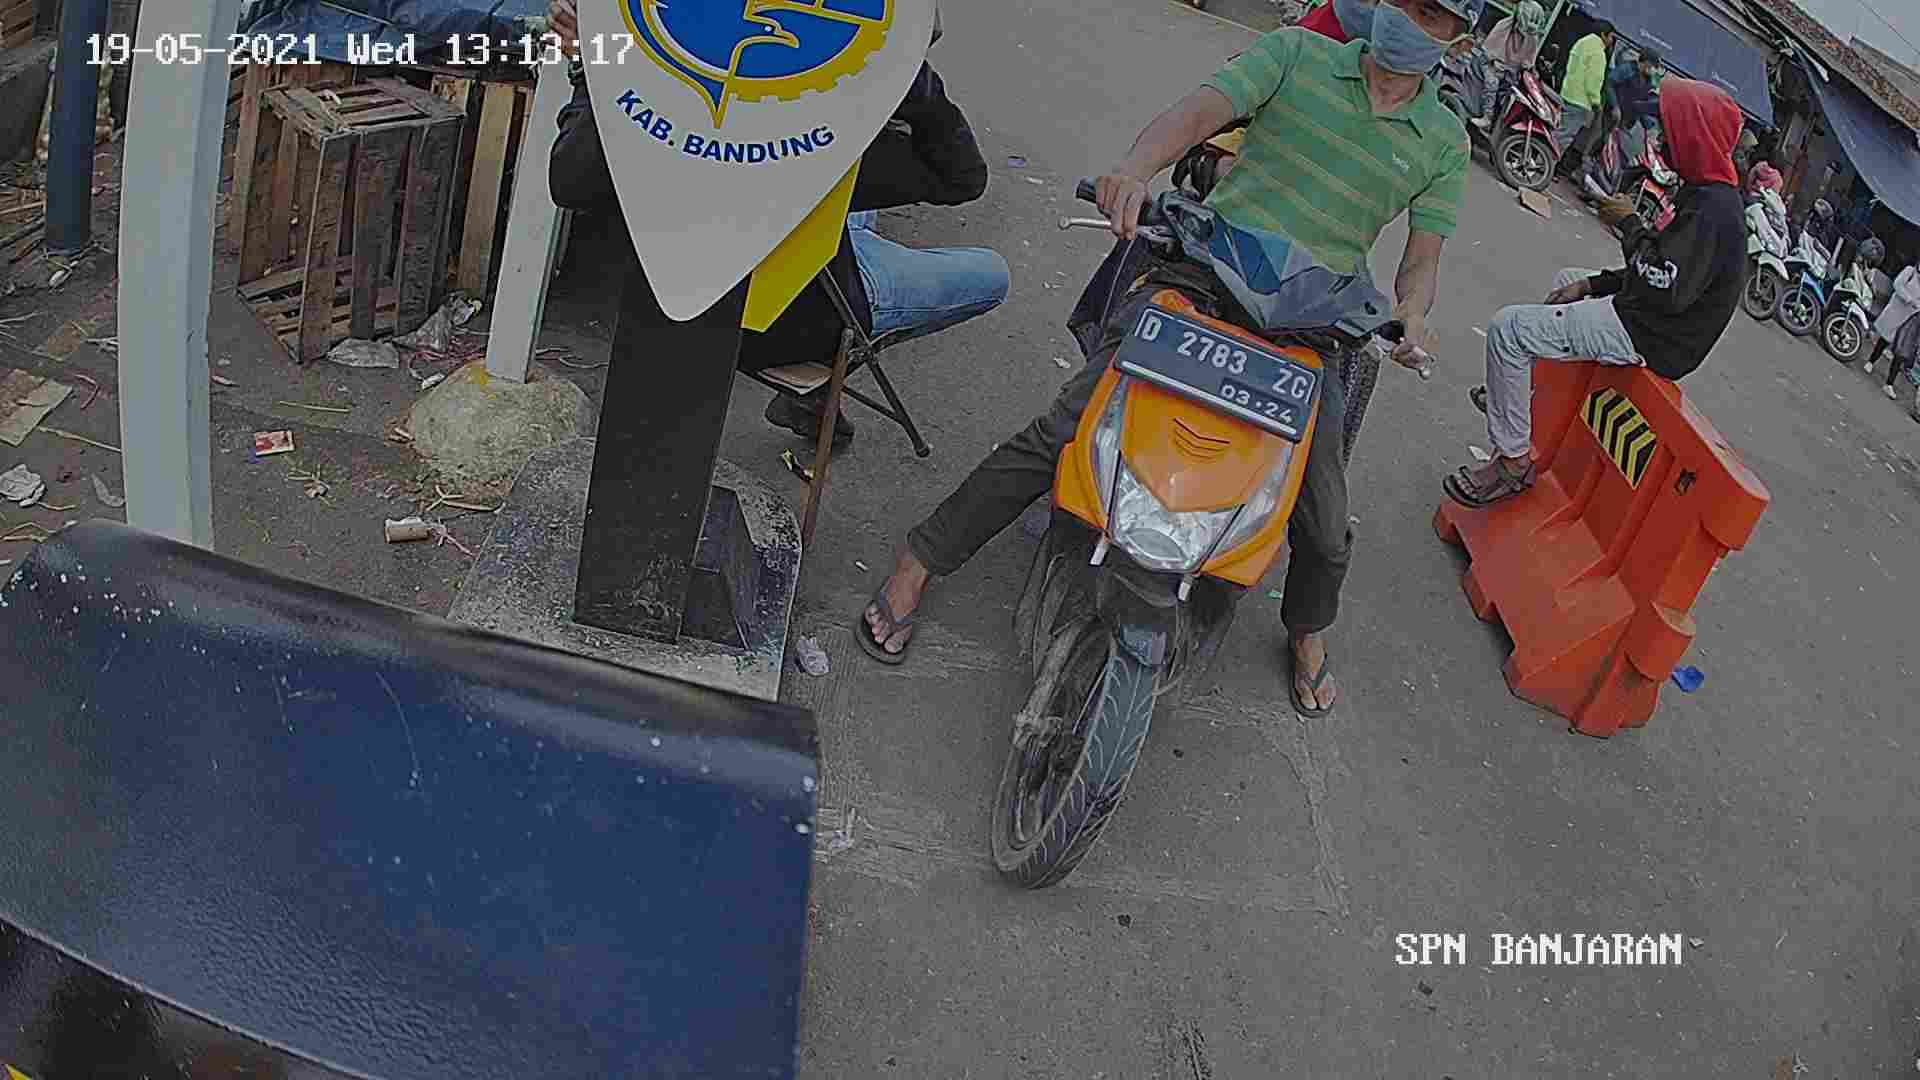motor: (1000, 169, 1357, 907)
